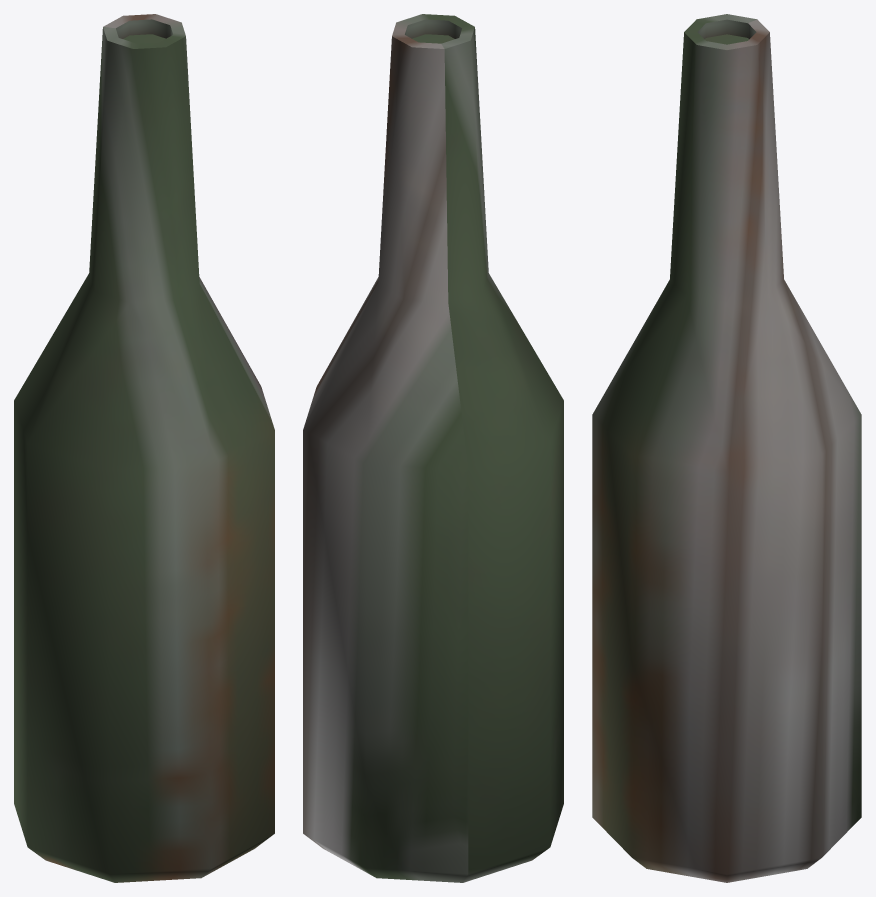
Rendered from SM_Props_Garbage_01.glb.
The picture shows the model from 3 angles, left to right: view 1: azimuth 30°, elevation 25°; view 2: azimuth 150°, elevation 25°; view 3: azimuth 270°, elevation 25°; orthographic projection.
Visible parts, largest first — view 1: SM_Props_Garbage_01; view 2: SM_Props_Garbage_01; view 3: SM_Props_Garbage_01.
Part boxes in pixels (bbox=[...]): SM_Props_Garbage_01: bbox=[14, 14, 274, 882]; SM_Props_Garbage_01: bbox=[303, 14, 563, 882]; SM_Props_Garbage_01: bbox=[592, 14, 861, 882].
Bounding box in the file's own units: 0.0805 × 0.265 × 0.0805.
1 material, 1 textured.
